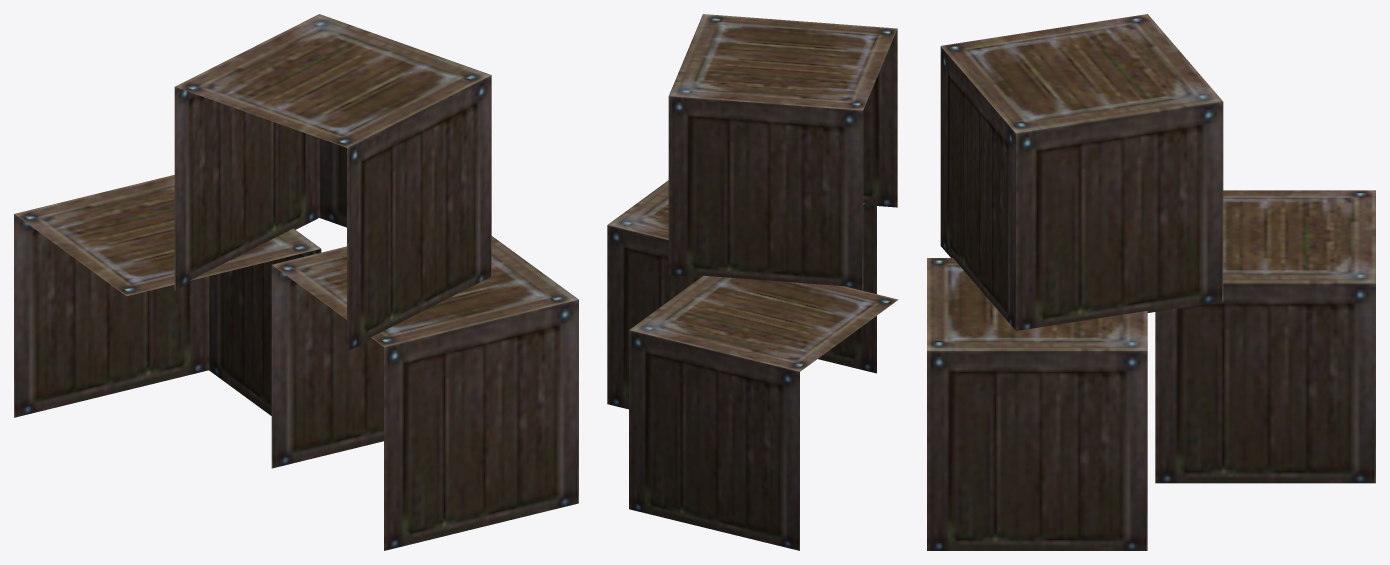
Rendered from zc_suzhou_xiangzi01.FBX.
3 renders of one model, left to right at view 1: azimuth 30°, elevation 25°; view 2: azimuth 150°, elevation 25°; view 3: azimuth 270°, elevation 25°, orthographic. The views are drawn at different scales.
Visible parts, largest first — view 1: zc_suzhou_xiangzi01; view 2: zc_suzhou_xiangzi01; view 3: zc_suzhou_xiangzi01.
Boxes of the visible parts, <box> form: zc_suzhou_xiangzi01: <box>14,14,578,550</box>; zc_suzhou_xiangzi01: <box>607,14,898,550</box>; zc_suzhou_xiangzi01: <box>927,14,1375,550</box>.
Bounding box in the file's own units: 91.05 × 105 × 107.
